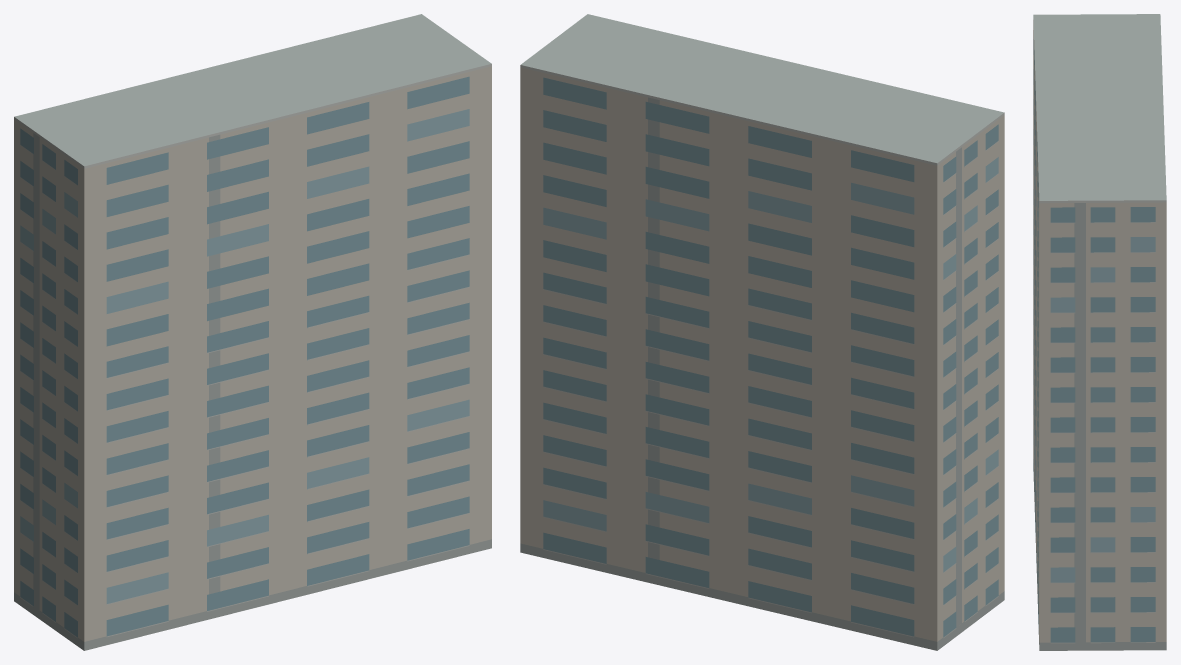
Rendered from residential-fe8bc983-e950-4d26-939c-48ed364f328e.glb.
3 renders of one model, left to right at view 1: azimuth 30°, elevation 25°; view 2: azimuth 150°, elevation 25°; view 3: azimuth 270°, elevation 25°, orthographic. The views are drawn at different scales.
Parts seen in each view (by area): view 1: residential-fe8bc983-e950-4d26-939c-48ed364f328e.tmp; view 2: residential-fe8bc983-e950-4d26-939c-48ed364f328e.tmp; view 3: residential-fe8bc983-e950-4d26-939c-48ed364f328e.tmp.
Boxes of the visible parts, x1,y1,x2,y2 form: residential-fe8bc983-e950-4d26-939c-48ed364f328e.tmp: (14, 14, 491, 650); residential-fe8bc983-e950-4d26-939c-48ed364f328e.tmp: (520, 14, 1004, 650); residential-fe8bc983-e950-4d26-939c-48ed364f328e.tmp: (1033, 14, 1166, 650).
Bounding box in the file's own units: 43.68 × 49 × 13.17.
